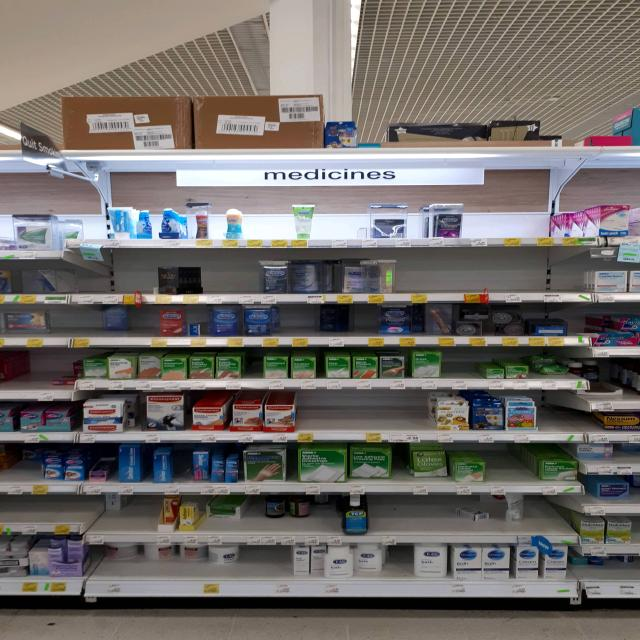void: (400, 260, 586, 290), (466, 203, 590, 237), (302, 404, 427, 429), (371, 498, 454, 530), (62, 268, 152, 293), (3, 496, 88, 522), (184, 267, 259, 291), (320, 206, 374, 239), (4, 356, 46, 390), (241, 548, 288, 578), (527, 495, 564, 530), (56, 305, 99, 333), (250, 215, 296, 241), (384, 546, 414, 579), (445, 353, 481, 380), (125, 497, 156, 527), (280, 306, 312, 333), (540, 412, 590, 429), (492, 462, 534, 479), (356, 308, 374, 333), (134, 310, 152, 334)
